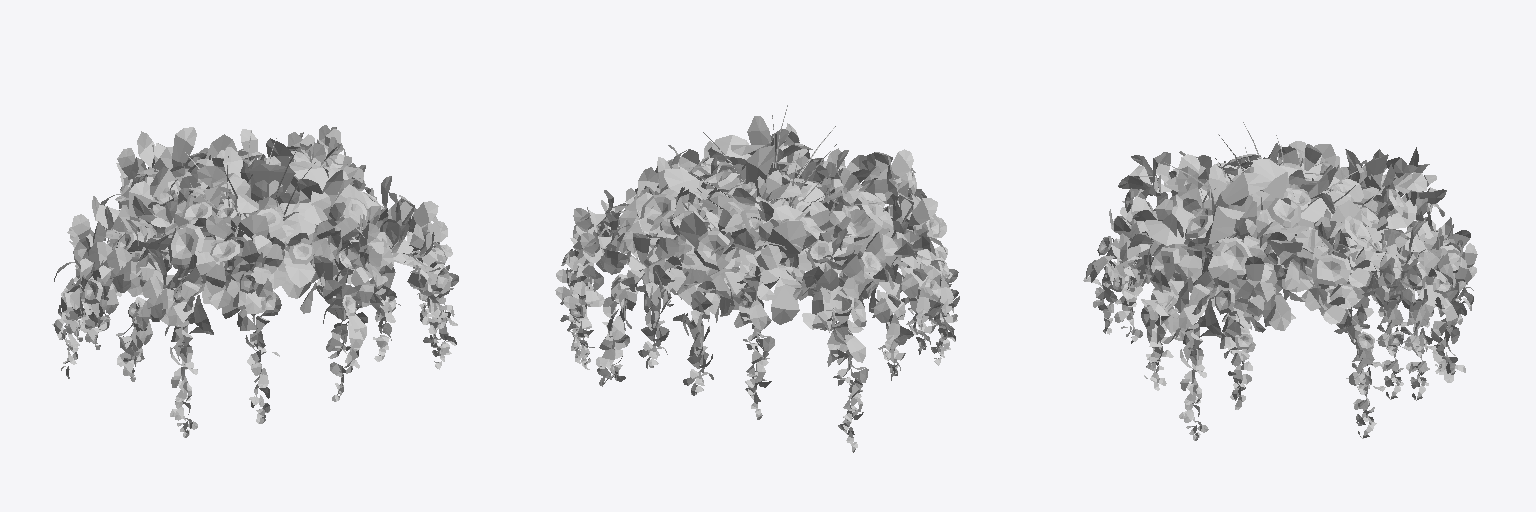
3 views of the same model, side by side, from view 1: azimuth 30°, elevation 25°; view 2: azimuth 150°, elevation 25°; view 3: azimuth 270°, elevation 25° (orthographic).
Visible parts, largest first — view 1: Bistro_Research_Exterior_Paris_Flowers_01a1___6__6011; view 2: Bistro_Research_Exterior_Paris_Flowers_01a1___6__6011; view 3: Bistro_Research_Exterior_Paris_Flowers_01a1___6__6011.
Boxes of the visible parts, x1,y1,x2,y2 form: Bistro_Research_Exterior_Paris_Flowers_01a1___6__6011: [52, 125, 458, 437]; Bistro_Research_Exterior_Paris_Flowers_01a1___6__6011: [555, 105, 959, 452]; Bistro_Research_Exterior_Paris_Flowers_01a1___6__6011: [1083, 122, 1477, 440].
Size of the model in its own units: 0.7121 by 0.5077 by 0.7128.